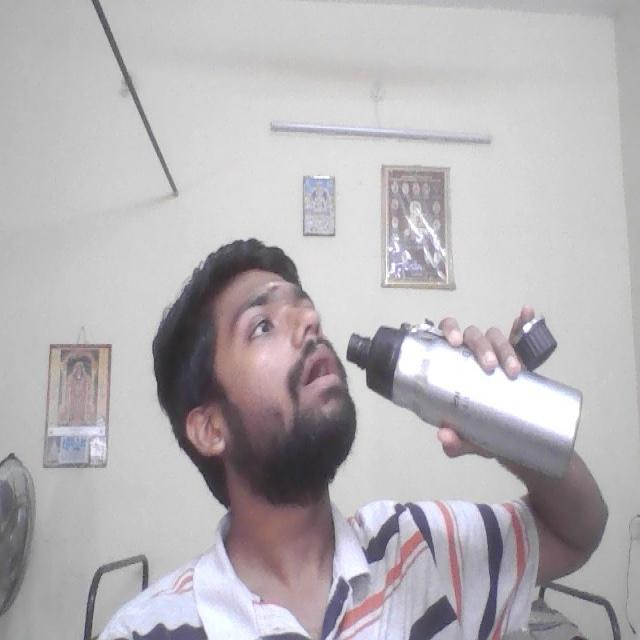Drinking: (349, 309, 591, 484)
